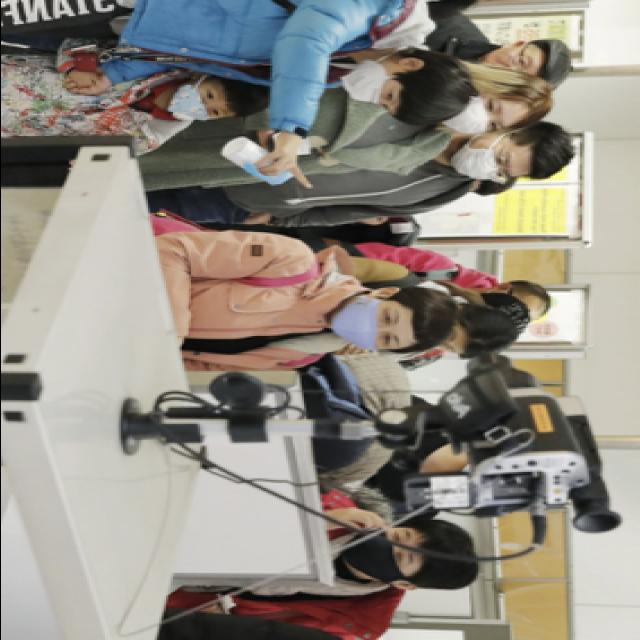mask: (335, 297, 409, 353), (348, 528, 421, 581), (450, 138, 522, 182), (342, 68, 408, 114), (441, 96, 513, 138), (168, 85, 235, 123)
